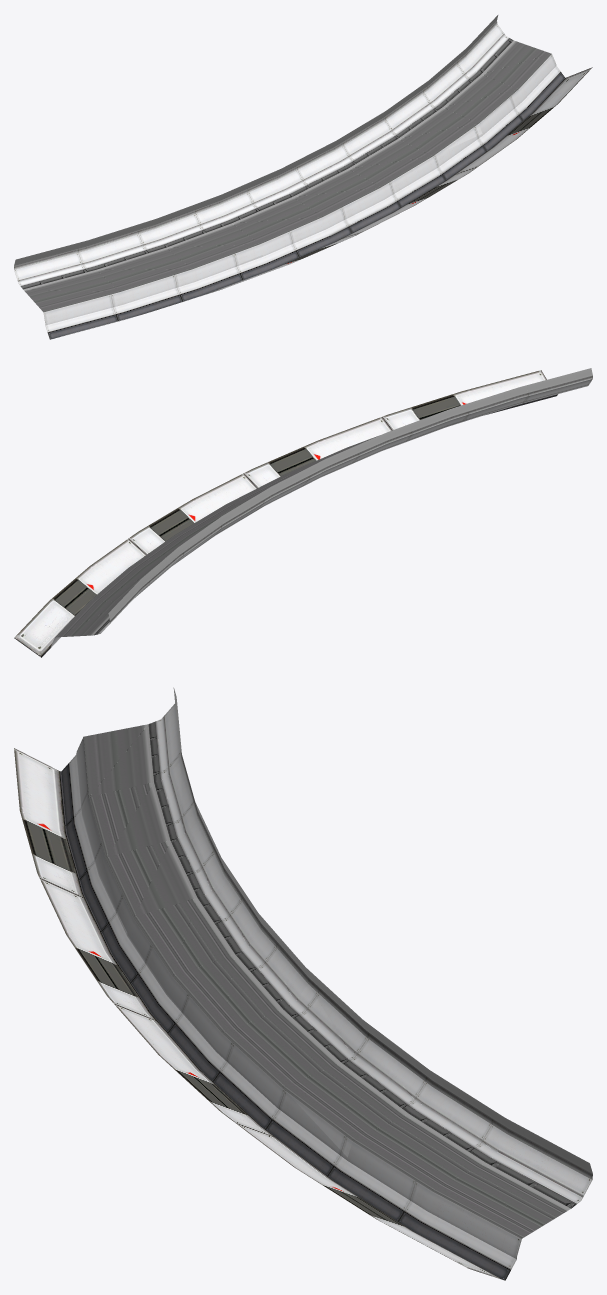
Rendered from Club_ShellTrim_01.FBX.
3 views of the same model, one above another, from view 1: azimuth 30°, elevation 25°; view 2: azimuth 210°, elevation 25°; view 3: azimuth 270°, elevation 25° (orthographic). The views are drawn at different scales.
Visible parts, largest first — view 1: Club_ShellTrim_01; view 2: Club_ShellTrim_01; view 3: Club_ShellTrim_01.
Boxes of the visible parts, x1,y1,x2,y2 form: Club_ShellTrim_01: (14,15,592,339); Club_ShellTrim_01: (14,368,592,657); Club_ShellTrim_01: (14,687,592,1280).
Size of the model in its own units: 51.35 by 3.96 by 24.1.
